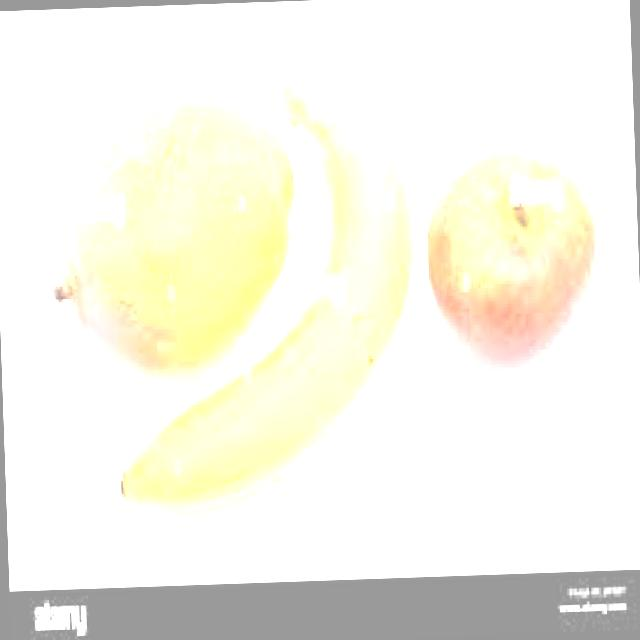Apple: (420, 140, 604, 380)
Banana: (105, 61, 424, 518)
Mango: (51, 88, 302, 381)
